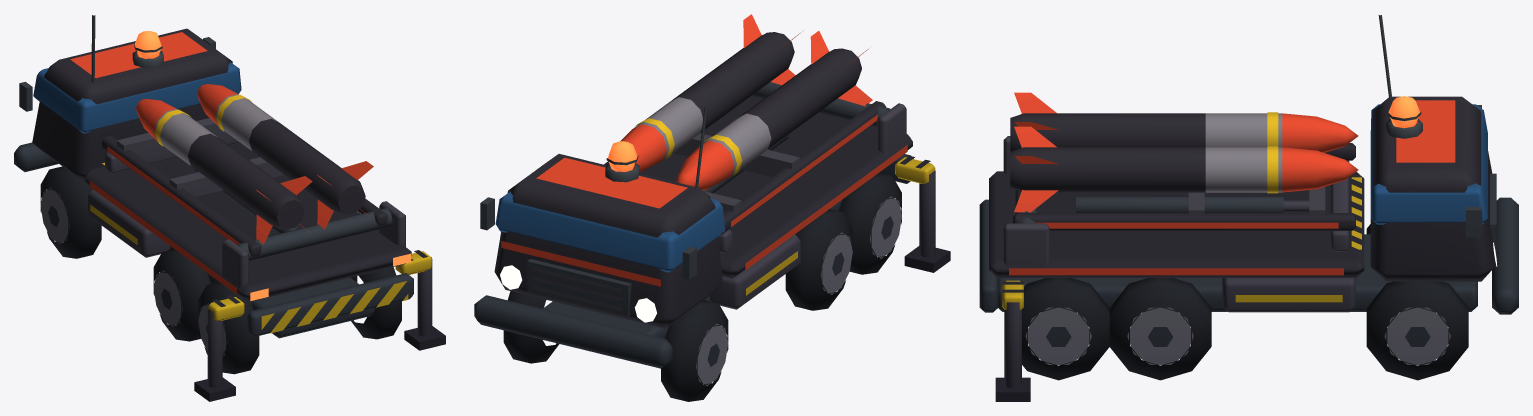
File: missile-truck.glb
3 views of the same model, side by side, from view 1: azimuth 30°, elevation 25°; view 2: azimuth 150°, elevation 25°; view 3: azimuth 270°, elevation 25° (orthographic). The views are drawn at different scales.
Parts seen in each view (by area): view 1: missile-truck Ashen charcoal, missile-truck Rack Ashen charcoal, missile-truck Tyre black, missile-truck Gunmetal, missile-truck Ashen slate, missile-truck Tinted glass, missile-truck Rack Ember paint, missile-truck Ember paint, missile-truck Rack Ash grey, missile-truck Hazard yellow, missile-truck Rack Gunmetal, missile-truck Ash grey (+3 smaller); view 2: missile-truck Ashen charcoal, missile-truck Gunmetal, missile-truck Rack Ashen charcoal, missile-truck Tyre black, missile-truck Tinted glass, missile-truck Ashen slate, missile-truck Ember paint, missile-truck Rack Ember paint, missile-truck Ash grey, missile-truck Rack Ash grey, missile-truck Rack Ashen slate, missile-truck Hazard yellow (+4 smaller); view 3: missile-truck Ashen charcoal, missile-truck Rack Ashen charcoal, missile-truck Tyre black, missile-truck Gunmetal, missile-truck Ashen slate, missile-truck Rack Ember paint, missile-truck Ash grey, missile-truck Ember paint, missile-truck Rack Ash grey, missile-truck Tinted glass, missile-truck Hazard yellow, missile-truck Rack Hazard yellow (+2 smaller).
Part boxes in pixels (<box>): missile-truck Ashen charcoal: <box>32,28,445,401</box>; missile-truck Rack Ashen charcoal: <box>102,118,387,257</box>; missile-truck Tyre black: <box>40,166,401,374</box>; missile-truck Gunmetal: <box>14,15,413,338</box>; missile-truck Ashen slate: <box>88,136,432,387</box>; missile-truck Tinted glass: <box>33,62,241,133</box>; missile-truck Rack Ember paint: <box>107,84,373,244</box>; missile-truck Ember paint: <box>70,32,236,294</box>; missile-truck Rack Ash grey: <box>154,94,278,165</box>; missile-truck Hazard yellow: <box>90,162,431,333</box>; missile-truck Rack Gunmetal: <box>237,208,392,260</box>; missile-truck Ash grey: <box>40,187,227,356</box>; missile-truck Ashen charcoal: <box>494,96,950,328</box>; missile-truck Gunmetal: <box>474,106,913,368</box>; missile-truck Rack Ashen charcoal: <box>604,32,886,235</box>; missile-truck Tyre black: <box>503,173,901,401</box>; missile-truck Tinted glass: <box>495,191,725,272</box>; missile-truck Ashen slate: <box>532,103,935,310</box>; missile-truck Ember paint: <box>501,145,907,286</box>; missile-truck Rack Ember paint: <box>620,14,877,227</box>; missile-truck Ash grey: <box>696,196,901,385</box>; missile-truck Rack Ash grey: <box>633,97,771,175</box>; missile-truck Rack Ashen slate: <box>673,133,799,212</box>; missile-truck Hazard yellow: <box>746,157,935,295</box>; missile-truck Ashen charcoal: <box>989,96,1494,401</box>; missile-truck Rack Ashen charcoal: <box>1010,113,1355,230</box>; missile-truck Tyre black: <box>1022,224,1468,380</box>; missile-truck Gunmetal: <box>979,15,1518,346</box>; missile-truck Ashen slate: <box>1003,136,1355,388</box>; missile-truck Rack Ember paint: <box>1014,92,1358,228</box>; missile-truck Ash grey: <box>1025,307,1450,364</box>; missile-truck Ember paint: <box>1009,100,1455,275</box>; missile-truck Rack Ash grey: <box>1205,113,1282,192</box>; missile-truck Tinted glass: <box>1370,104,1487,224</box>; missile-truck Hazard yellow: <box>1002,177,1361,309</box>; missile-truck Rack Hazard yellow: <box>1267,112,1278,193</box>.
Bounding box in the file's own units: 2.32 × 2.35 × 4.03.
10 materials, 7 textured.
